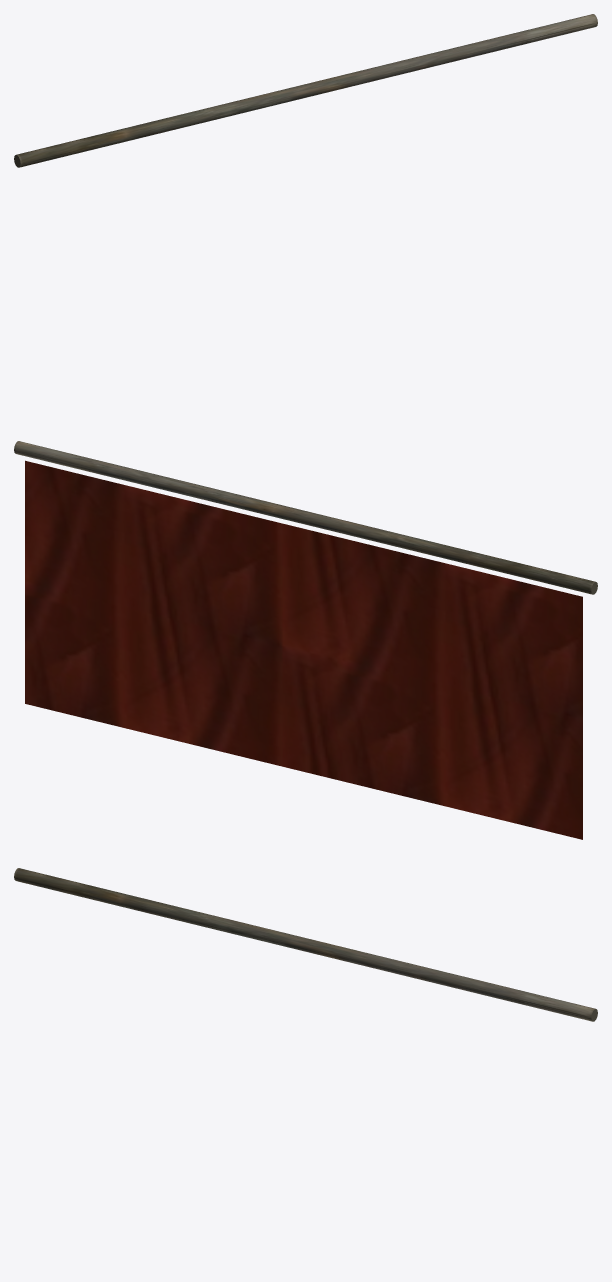
The model's file is curtain.glb.
The picture shows the model from 3 angles, top to bottom: view 1: azimuth 30°, elevation 25°; view 2: azimuth 150°, elevation 25°; view 3: azimuth 330°, elevation 25°; orthographic projection.
Visible parts, largest first — view 1: curtain.ms3d.mo; view 2: curtain.ms3d.mo; view 3: curtain.ms3d.mo.
Part boxes in pixels (box(x1,y1,x2,y2)): curtain.ms3d.mo: box(14, 14, 597, 167); curtain.ms3d.mo: box(14, 441, 597, 839); curtain.ms3d.mo: box(14, 868, 597, 1021).
Size of the model in its own units: 37.5 by 16.17 by 0.75.
Materials: 2 (2 with a texture image).
